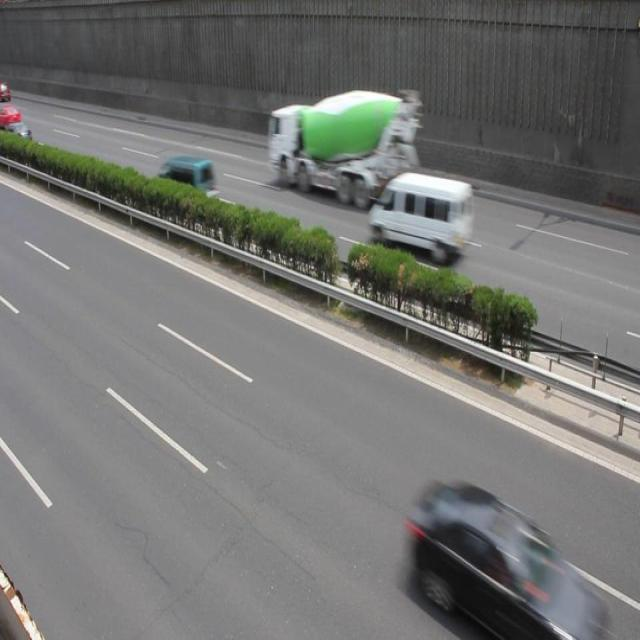bus: (267, 87, 420, 206)
car: (405, 471, 605, 640)
truck: (368, 174, 473, 258), (152, 157, 218, 216)
